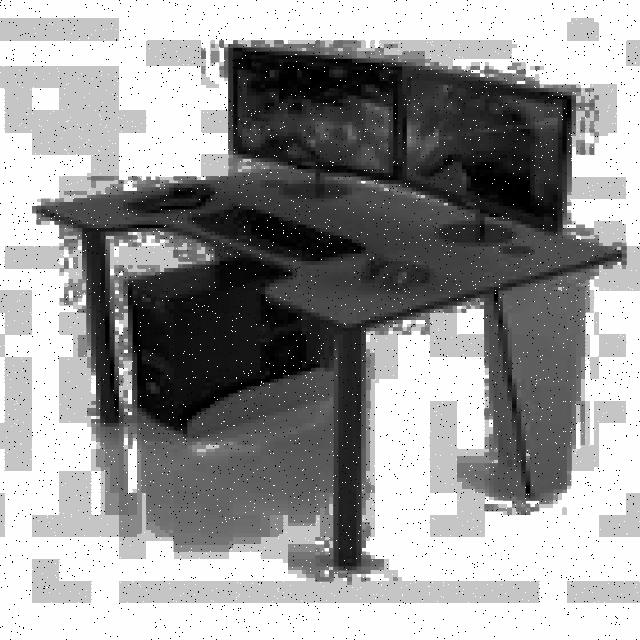table: (41, 162, 626, 566)
